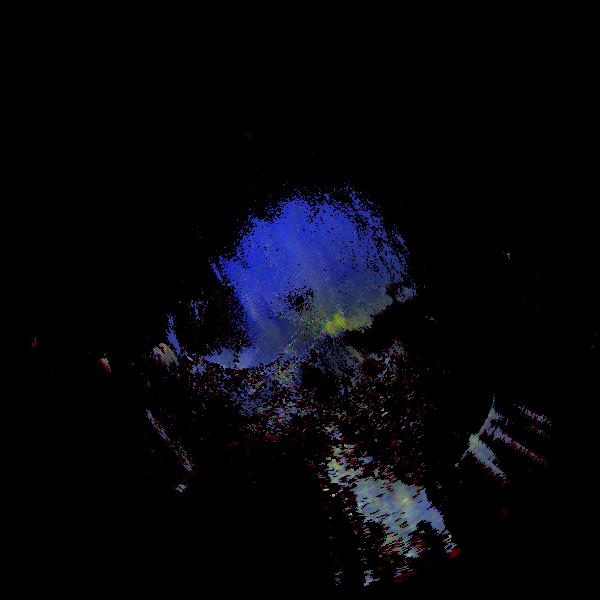roost: (148, 332, 190, 374)
